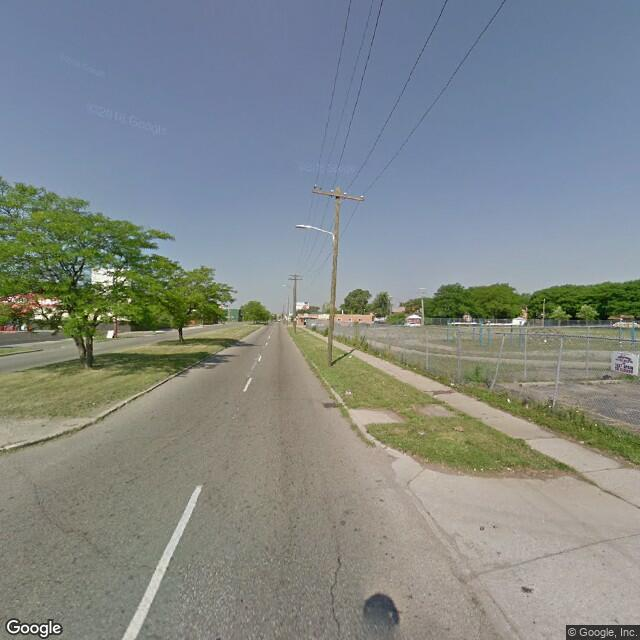litter: (503, 392, 516, 407), (446, 376, 458, 391)
